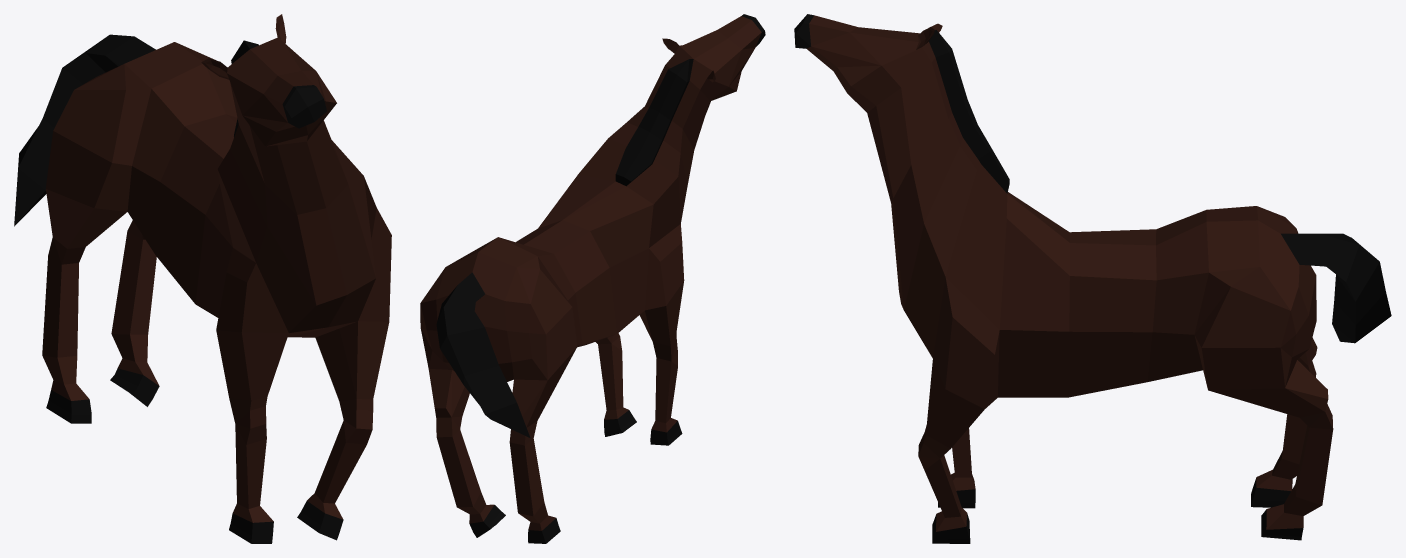
File: Horse_000007.obj
3 renders of one model, left to right at view 1: azimuth 30°, elevation 25°; view 2: azimuth 150°, elevation 25°; view 3: azimuth 270°, elevation 25°, orthographic. The views are drawn at different scales.
Visible parts, largest first — view 1: Horse_Cylinder; view 2: Horse_Cylinder; view 3: Horse_Cylinder.
Boxes of the visible parts, x1=… form: Horse_Cylinder: x1=14, y1=14, x2=391, y2=543; Horse_Cylinder: x1=420, y1=14, x2=765, y2=543; Horse_Cylinder: x1=794, y1=14, x2=1391, y2=543.
Size of the model in its own units: 3.17 by 7.69 by 8.49.
